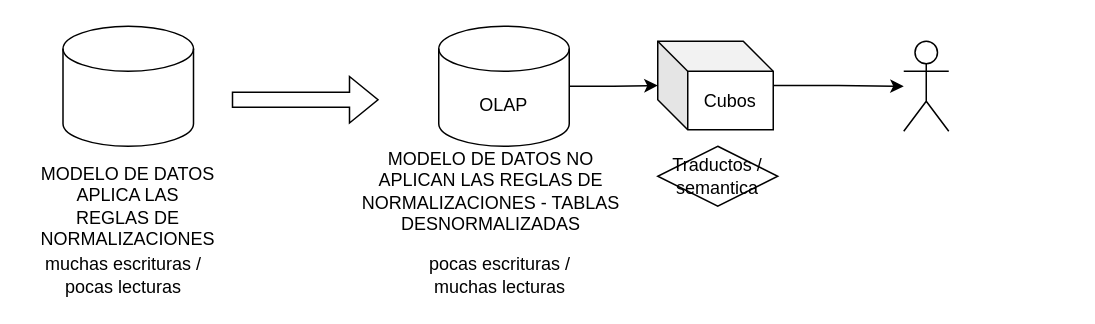
The diagram is 1095 pixels wide and 324 high, and some of its shapes have lost their labels. Each missing label, with the centre of its shape:
"OLTP" goes at [128,85].
"Usa alguna APP de visualizacion y exploracion de datos" goes at [925,85].
